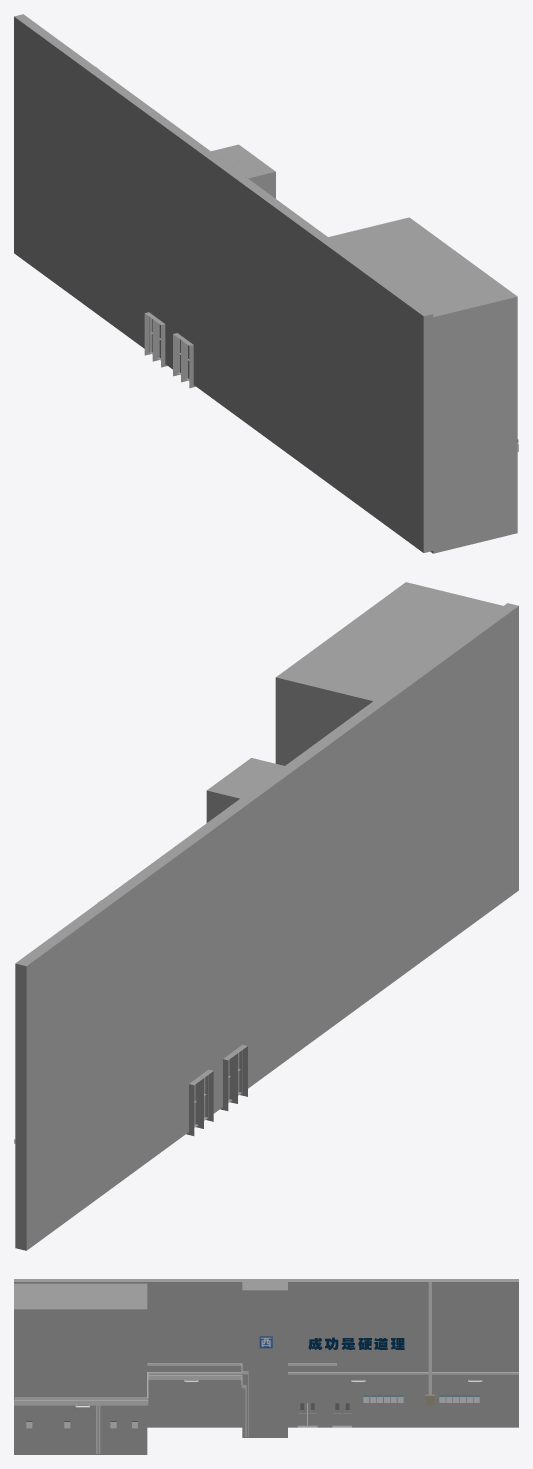
File: z_qiang_xi.fbx
3 views of the same model, one above another, from view 1: azimuth 30°, elevation 25°; view 2: azimuth 150°, elevation 25°; view 3: azimuth 270°, elevation 25° (orthographic). The views are drawn at different scales.
Parts seen in each view (by area): view 1: qiang_xi1; view 2: qiang_xi1; view 3: qiang_xi1.
Part boxes in pixels (x1,y1,x2,y2): qiang_xi1: (14, 14, 518, 553); qiang_xi1: (14, 582, 518, 1250); qiang_xi1: (14, 1279, 518, 1454).
Size of the model in its own units: 524 by 1195 by 3703.
